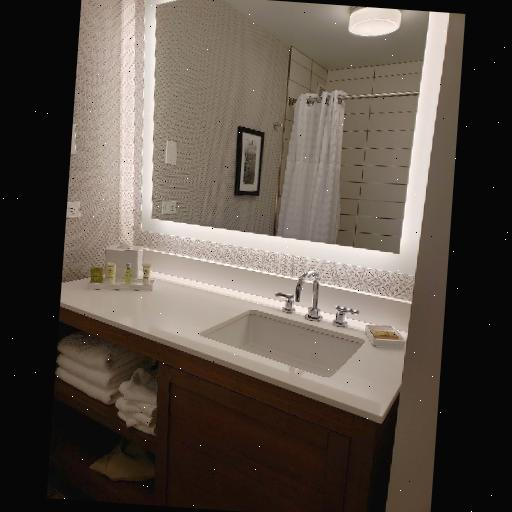clean_sink: (59, 231, 412, 423)
folded_towel: (51, 334, 161, 435)
